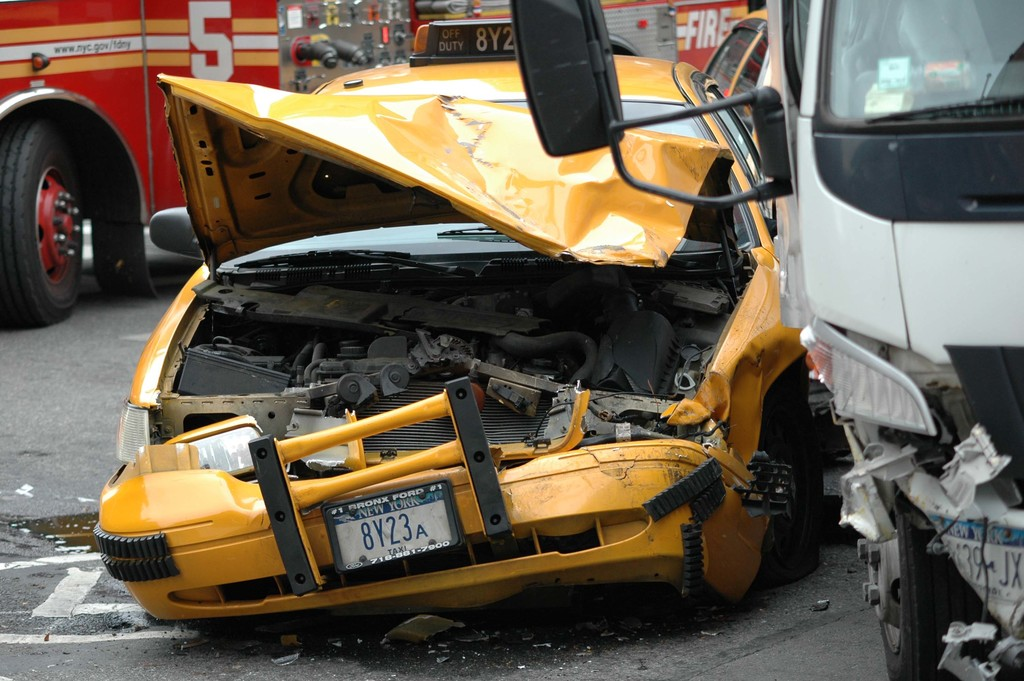Car: (101, 45, 804, 660)
